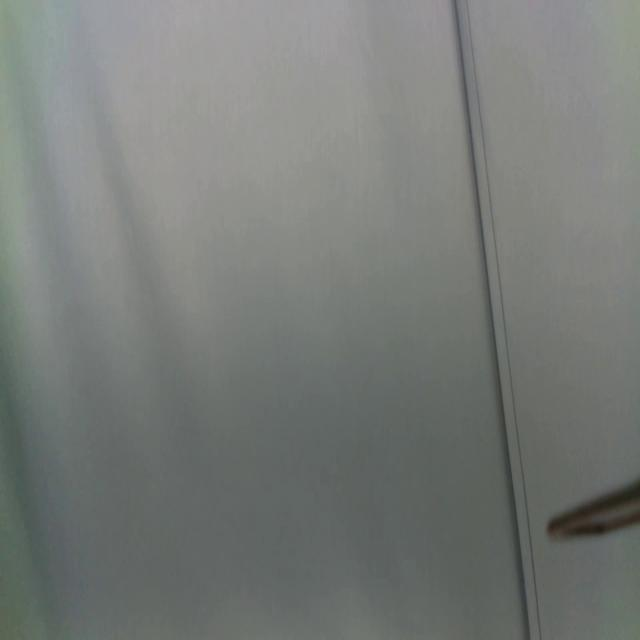crease: (451, 0, 542, 640)
